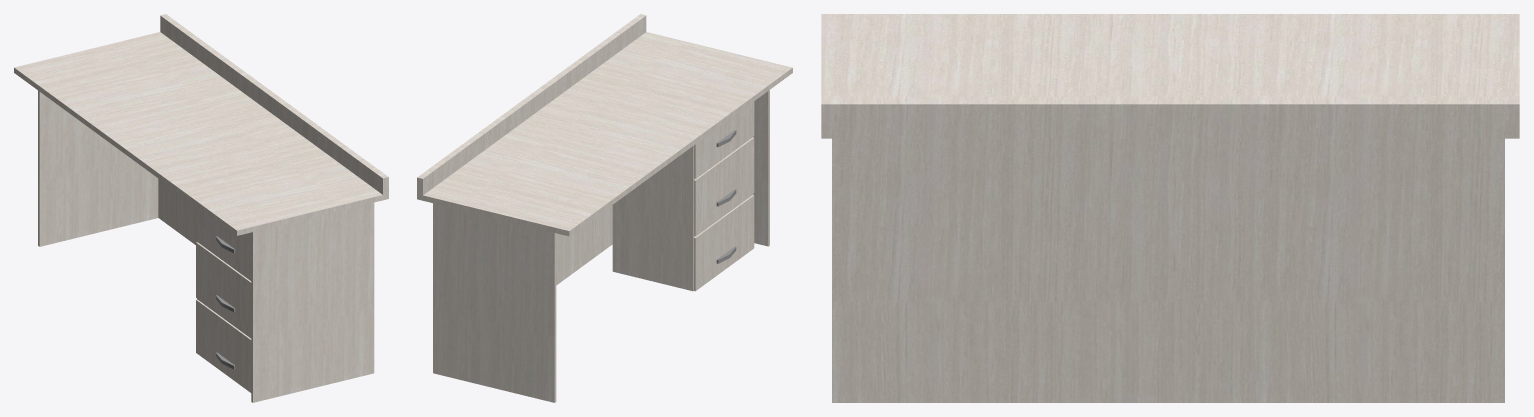
Rendered from CK-zhuozi0003-CJBZ.FBX.
3 views of the same model, side by side, from view 1: azimuth 30°, elevation 25°; view 2: azimuth 150°, elevation 25°; view 3: azimuth 270°, elevation 25° (orthographic). The views are drawn at different scales.
Visible parts, largest first — view 1: CK-zhuozi0006-CJBZ; view 2: CK-zhuozi0006-CJBZ; view 3: CK-zhuozi0006-CJBZ.
Part boxes in pixels (<box>): CK-zhuozi0006-CJBZ: <box>14,14,388,402</box>; CK-zhuozi0006-CJBZ: <box>417,14,792,402</box>; CK-zhuozi0006-CJBZ: <box>821,14,1519,402</box>.
Size of the model in its own units: 0.951 by 1.17 by 2.42.
2 materials, 1 textured.
